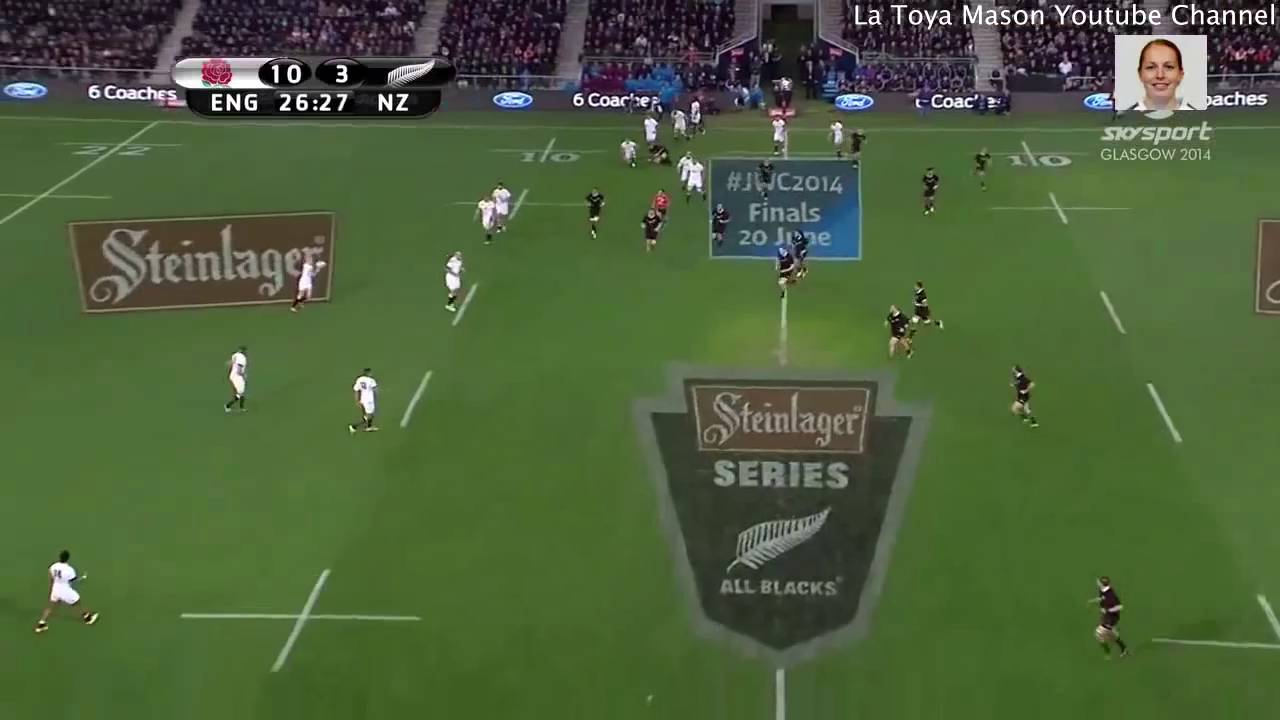10_metre: (179, 554, 434, 689), (1152, 587, 1280, 669), (454, 184, 615, 228), (983, 188, 1135, 232), (487, 135, 614, 172), (967, 139, 1096, 173)
ball: (217, 338, 253, 421), (315, 257, 331, 273)
player: (34, 543, 109, 639), (1089, 569, 1133, 669), (339, 359, 389, 434), (996, 355, 1037, 432), (903, 274, 949, 339), (878, 299, 917, 369), (285, 255, 327, 319), (437, 247, 467, 316), (913, 165, 947, 223), (769, 247, 799, 299), (967, 143, 995, 198), (583, 187, 610, 244), (825, 81, 843, 162), (473, 191, 498, 245), (790, 226, 811, 285), (638, 207, 663, 253), (706, 202, 729, 249), (493, 178, 511, 237), (846, 129, 871, 170), (765, 118, 791, 157), (757, 155, 775, 209), (688, 158, 710, 201), (649, 186, 673, 219), (674, 150, 694, 189), (618, 135, 640, 169), (645, 146, 671, 167), (639, 121, 661, 145), (670, 122, 691, 145), (695, 122, 709, 138)
